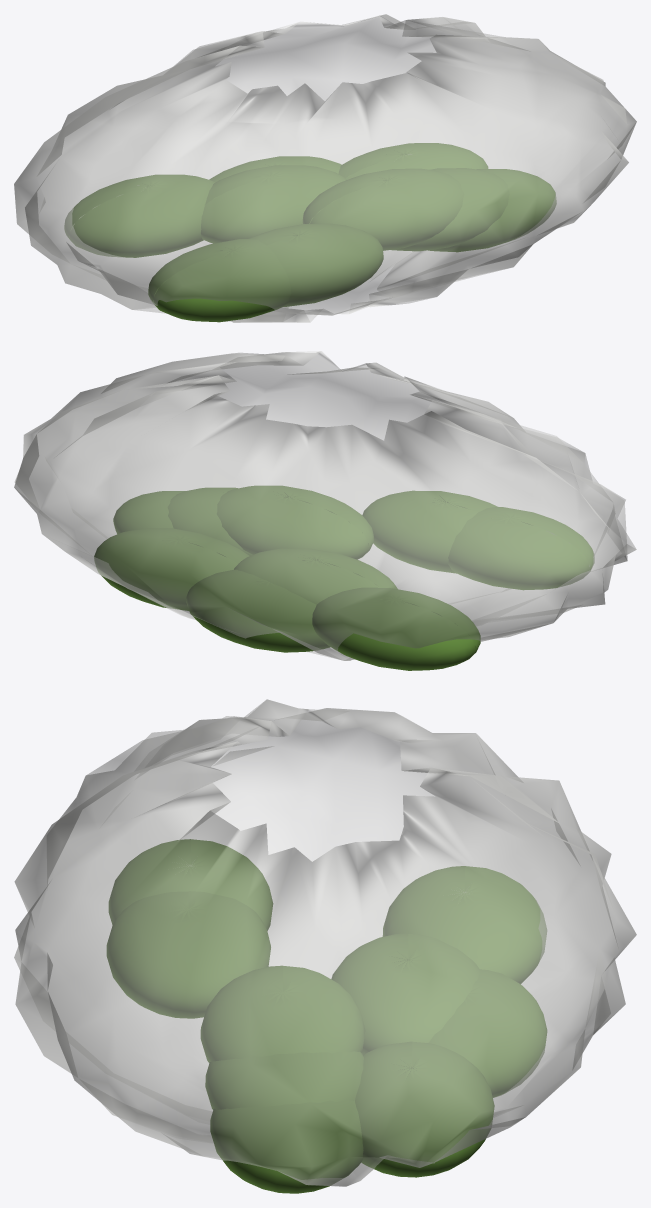
The picture shows the model from 3 angles, top to bottom: view 1: azimuth 30°, elevation 25°; view 2: azimuth 150°, elevation 25°; view 3: azimuth 270°, elevation 25°; orthographic projection. The views are drawn at different scales.
Visible parts, largest first — view 1: open crumpled film bag, leaf cluster.007, leaf cluster.002, leaf cluster.008, leaf cluster.004, leaf cluster.005, leaf cluster.006, leaf cluster.001, leaf cluster.003, leaf cluster; view 2: open crumpled film bag, leaf cluster.007, leaf cluster.002, leaf cluster.008, leaf cluster.003, leaf cluster, leaf cluster.005, leaf cluster.004, leaf cluster.001, leaf cluster.006; view 3: open crumpled film bag, leaf cluster.005, leaf cluster.003, leaf cluster.008, leaf cluster.007, leaf cluster.006, leaf cluster.004, leaf cluster, leaf cluster.002, leaf cluster.001.
Part boxes in pixels (x1=…): open crumpled film bag: x1=14, y1=14, x2=636, y2=322; leaf cluster.007: x1=64, y1=174, x2=216, y2=257; leaf cluster.002: x1=148, y1=239, x2=291, y2=322; leaf cluster.008: x1=302, y1=168, x2=464, y2=250; leaf cluster.004: x1=201, y1=165, x2=346, y2=243; leaf cluster.005: x1=249, y1=223, x2=383, y2=306; leaf cluster.006: x1=428, y1=169, x2=556, y2=252; leaf cluster.001: x1=391, y1=168, x2=509, y2=251; leaf cluster.003: x1=338, y1=143, x2=488, y2=179; leaf cluster: x1=209, y1=156, x2=350, y2=186; open crumpled film bag: x1=14, y1=351, x2=636, y2=660; leaf cluster.007: x1=312, y1=587, x2=480, y2=670; leaf cluster.002: x1=448, y1=507, x2=594, y2=590; leaf cluster.008: x1=217, y1=485, x2=373, y2=564; leaf cluster.003: x1=94, y1=528, x2=249, y2=610; leaf cluster: x1=186, y1=569, x2=330, y2=652; leaf cluster.005: x1=362, y1=490, x2=508, y2=573; leaf cluster.004: x1=234, y1=548, x2=397, y2=604; leaf cluster.001: x1=167, y1=487, x2=252, y2=556; leaf cluster.006: x1=113, y1=491, x2=184, y2=540; open crumpled film bag: x1=14, y1=699, x2=636, y2=1186; leaf cluster.005: x1=106, y1=891, x2=270, y2=1018; leaf cluster.003: x1=355, y1=1041, x2=494, y2=1177; leaf cluster.008: x1=200, y1=965, x2=365, y2=1062; leaf cluster.007: x1=382, y1=866, x2=546, y2=983; leaf cluster.006: x1=210, y1=1100, x2=363, y2=1193; leaf cluster.004: x1=331, y1=933, x2=480, y2=1054; leaf cluster: x1=411, y1=969, x2=547, y2=1097; leaf cluster.002: x1=108, y1=839, x2=273, y2=930; leaf cluster.001: x1=205, y1=1051, x2=363, y2=1109.
Bounding box in the file's own units: 0.2535 × 0.1051 × 0.1706.
